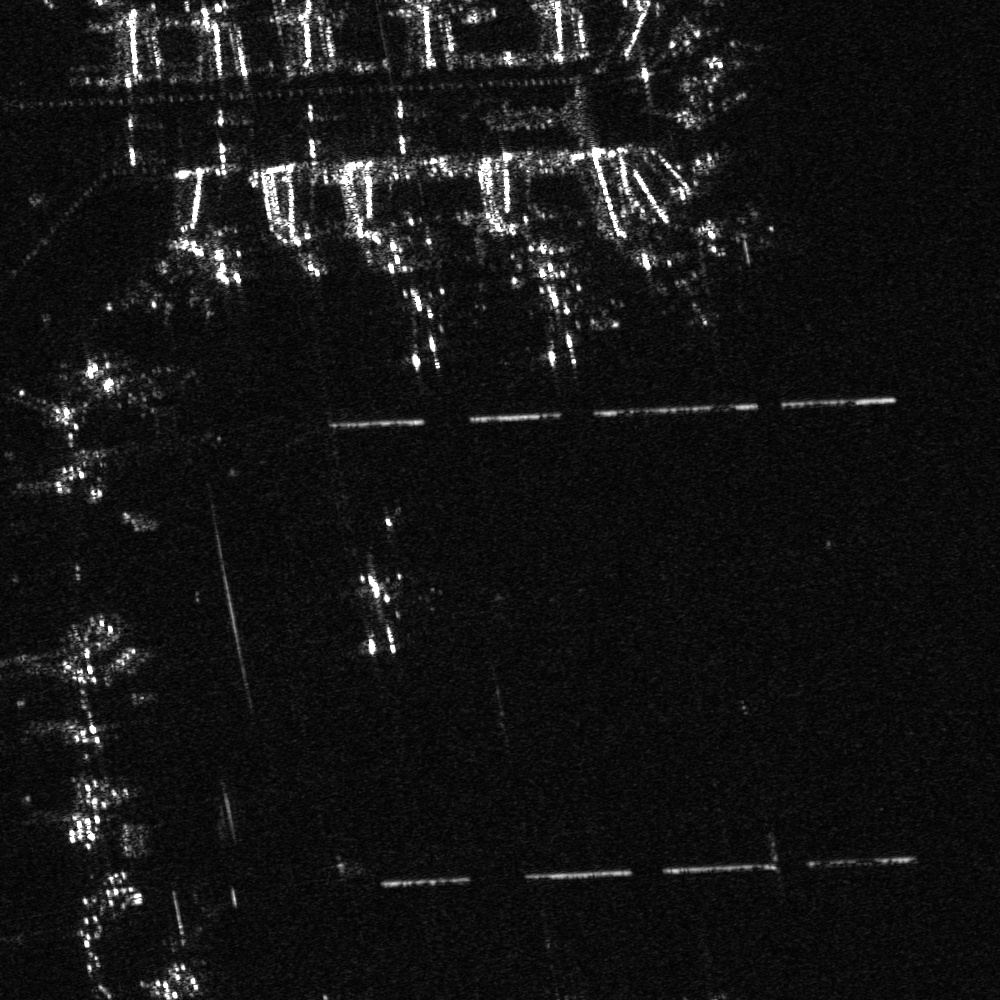A320/321: (514, 255, 611, 366)
Boeing737: (651, 248, 721, 334)
Boeing787: (378, 275, 459, 373)
other: (341, 571, 414, 658)
